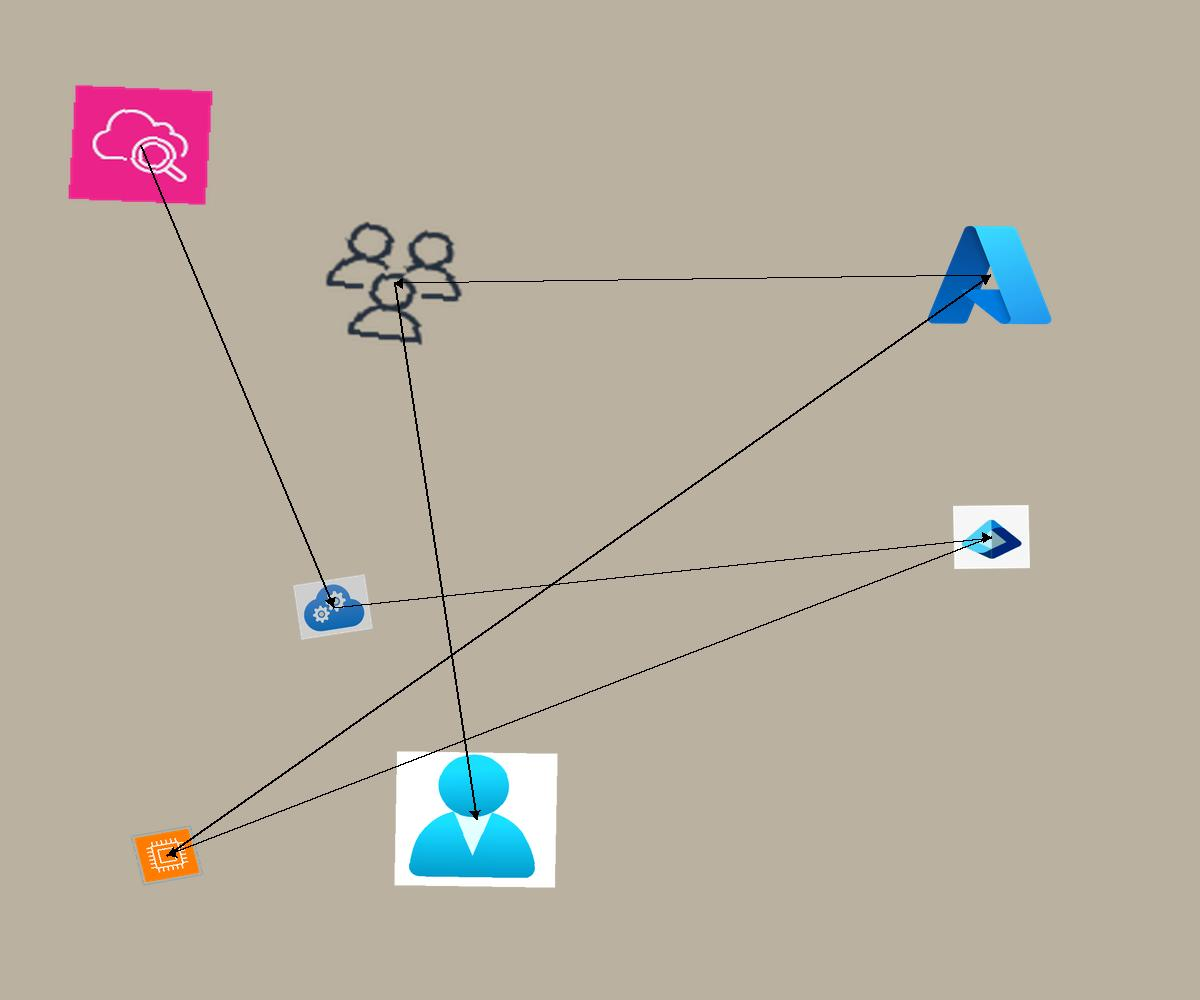AWS-Category_Compute: (130, 825, 204, 886)
AWS-CloudWatch: (67, 84, 214, 206)
AWS-Res_Users: (308, 212, 480, 355)
Azure_cloud_services: (293, 574, 373, 640)
Azure_microsoft_entra: (953, 505, 1030, 569)
Azure_services: (922, 218, 1058, 332)
Azure_users: (394, 751, 558, 888)
